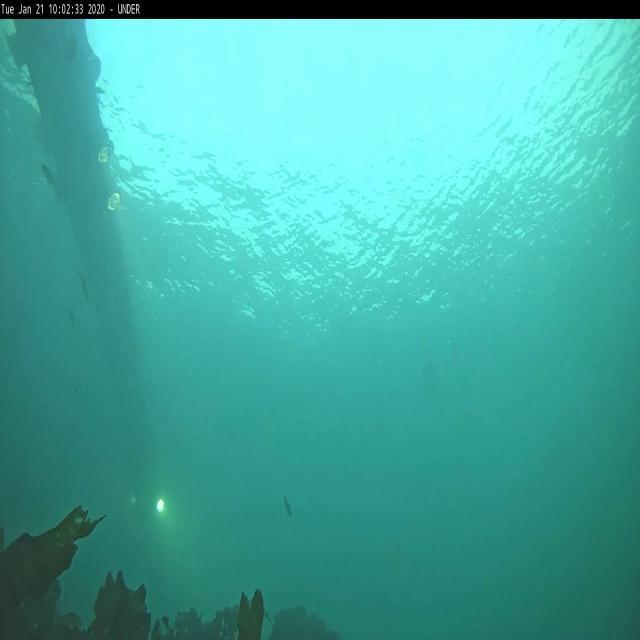fish: (41, 162, 60, 200), (76, 267, 90, 304), (283, 490, 293, 520)
